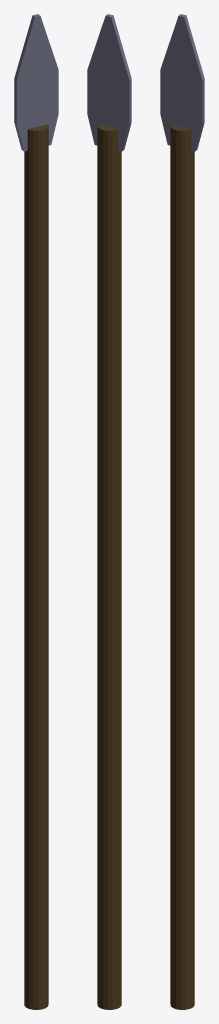
File: ClockworkPixie_Test_Spear.fbx
3 renders of one model, left to right at view 1: azimuth 30°, elevation 25°; view 2: azimuth 150°, elevation 25°; view 3: azimuth 330°, elevation 25°, orthographic.
Parts seen in each view (by area): view 1: Cylinder, Cube; view 2: Cylinder, Cube; view 3: Cylinder, Cube.
Boxes of the visible parts, x1,y1,x2,y2 form: Cylinder: (24, 124, 48, 1009); Cube: (14, 14, 58, 151); Cylinder: (97, 124, 121, 1009); Cube: (87, 14, 131, 151); Cylinder: (170, 124, 194, 1009); Cube: (160, 14, 204, 151).
Bounding box in the file's own units: 200 × 100 × 4502.
